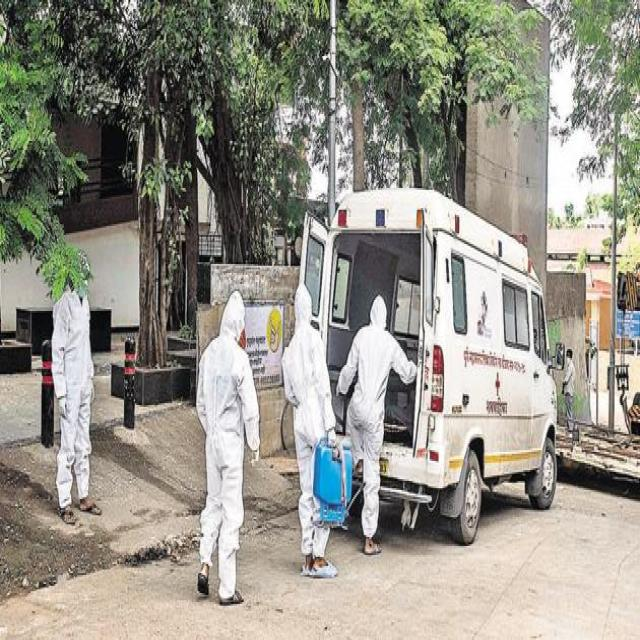emergency: (300, 191, 580, 542)
